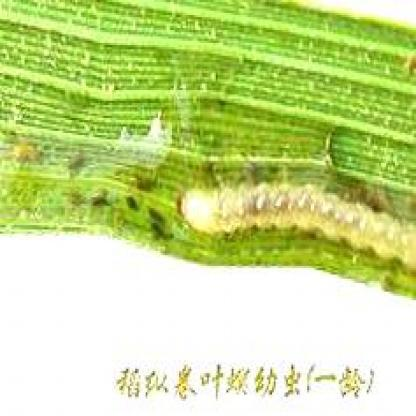leaf-folder: (172, 151, 396, 312)
